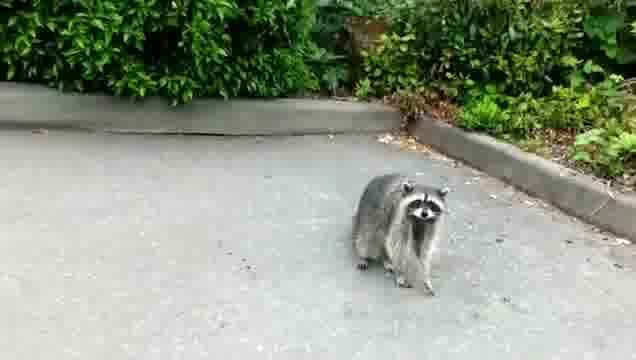raccoon: (352, 174, 450, 297)
